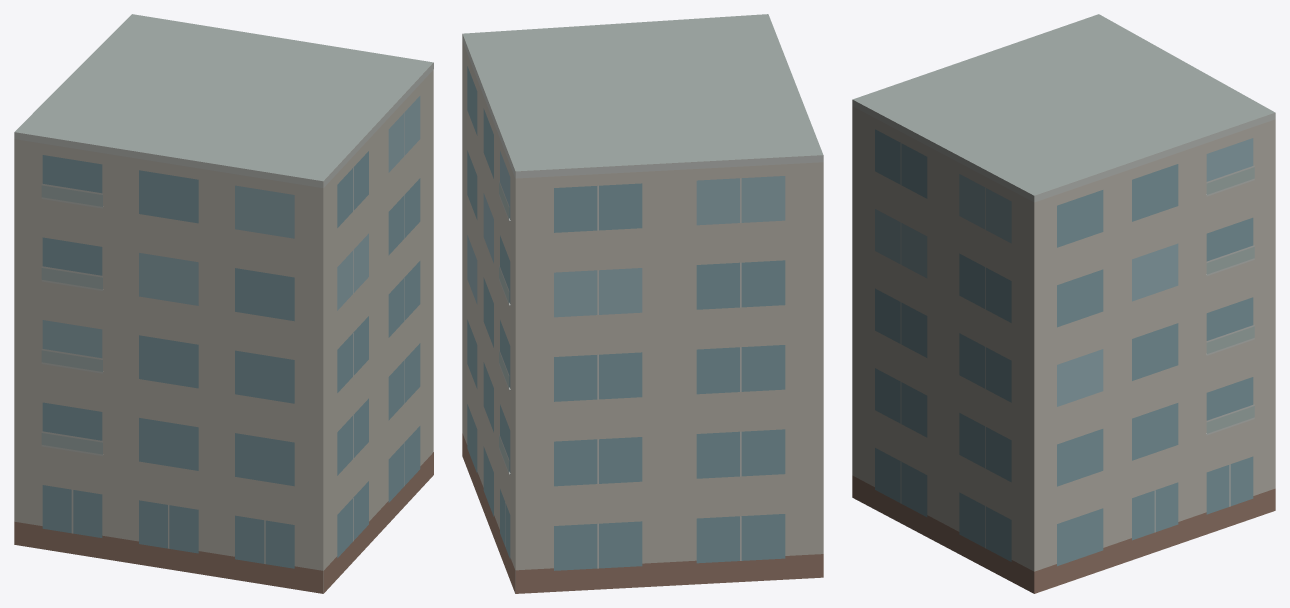
File: survey-upis-32747881.glb
3 renders of one model, left to right at view 1: azimuth 30°, elevation 25°; view 2: azimuth 150°, elevation 25°; view 3: azimuth 270°, elevation 25°, orthographic. The views are drawn at different scales.
Visible parts, largest first — view 1: survey-upis-32747881.tmp; view 2: survey-upis-32747881.tmp; view 3: survey-upis-32747881.tmp.
Boxes of the visible parts, x1,y1,x2,y2 form: survey-upis-32747881.tmp: [14, 14, 433, 593]; survey-upis-32747881.tmp: [462, 14, 823, 593]; survey-upis-32747881.tmp: [852, 14, 1275, 593].
Size of the model in its own units: 14.16 by 14.45 by 13.93.
